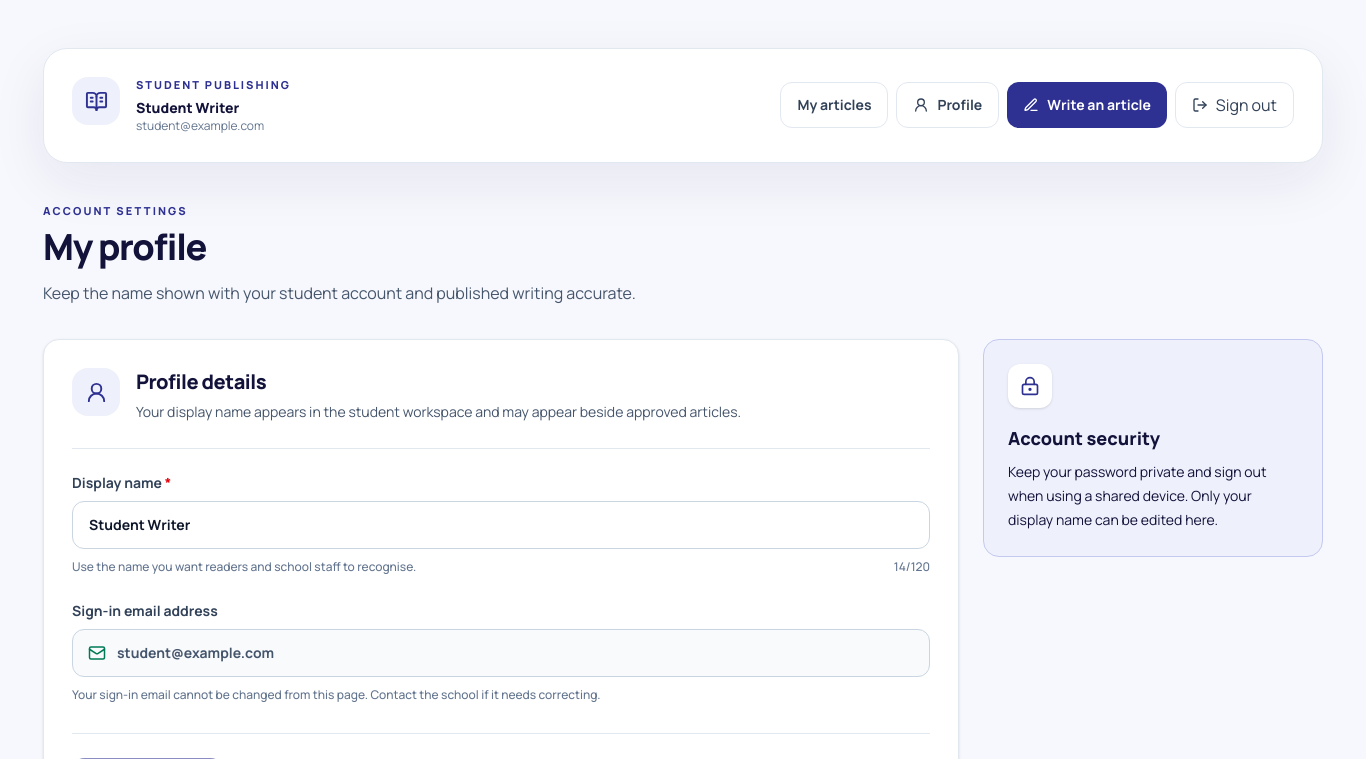
Test case: student profile and workspace › does not change the app profile when the canonical account update fails
Replace the text in the field labelled "Display name" with "Aarav Shah" at {"x": 501, "y": 525}, box [72,501,930,549]
(page scrolled)
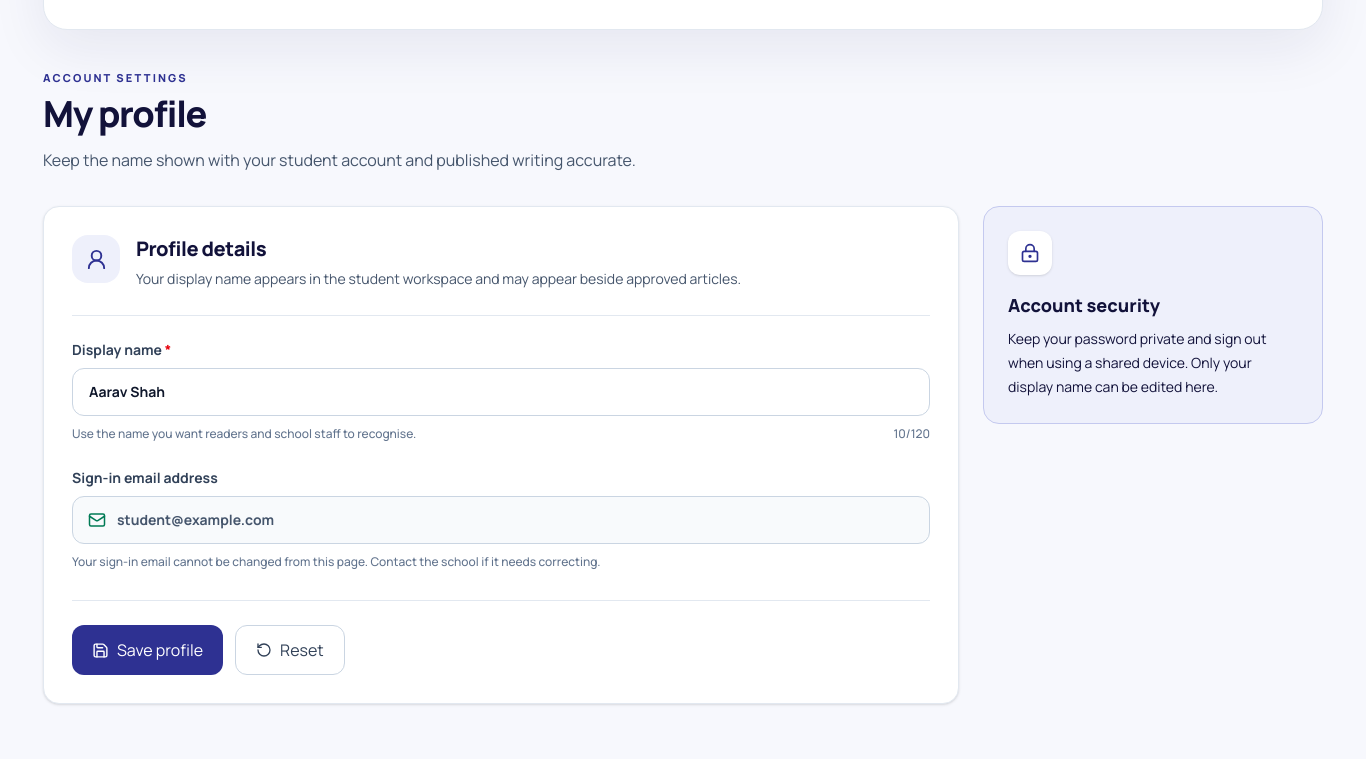
Click the button "Save profile" at {"x": 148, "y": 650}, box [72,625,223,675]
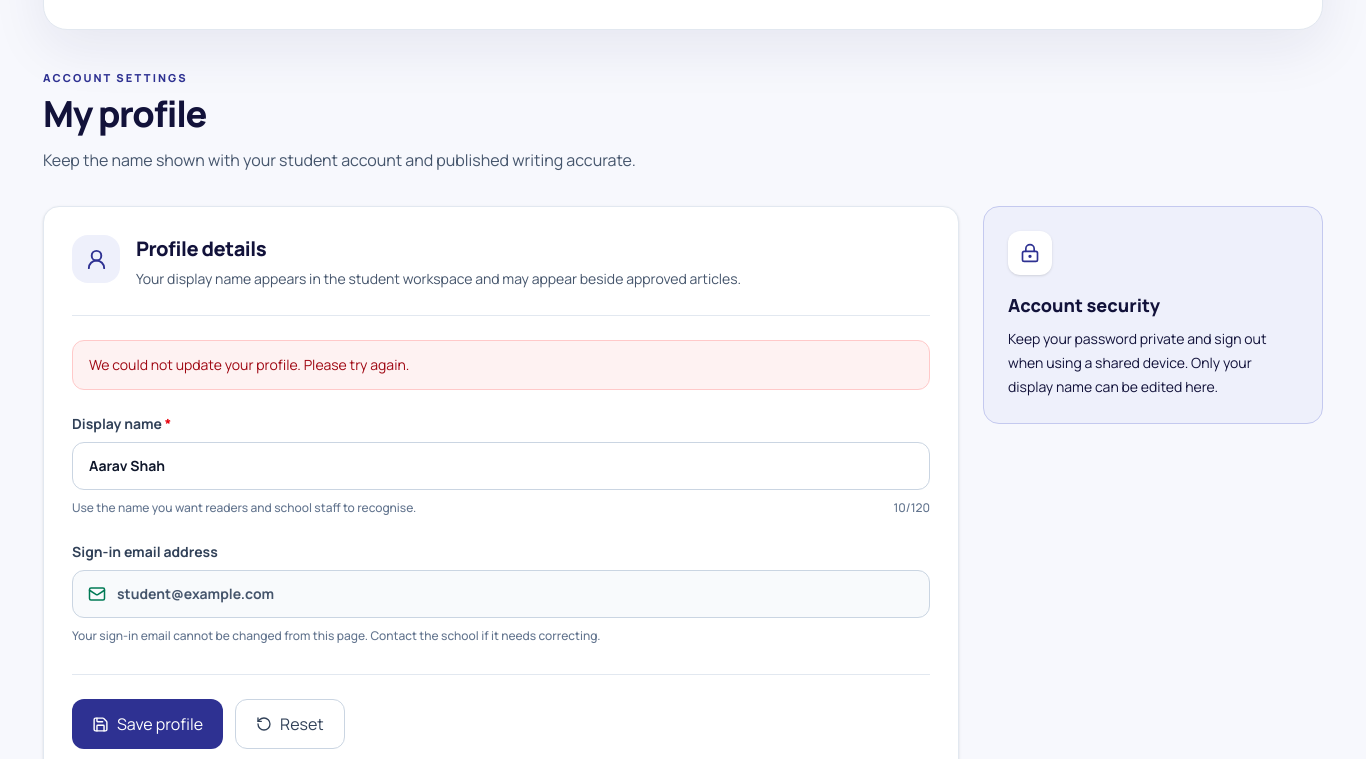
Check: the message shows "could not update your profile", box [89,355,409,374]
